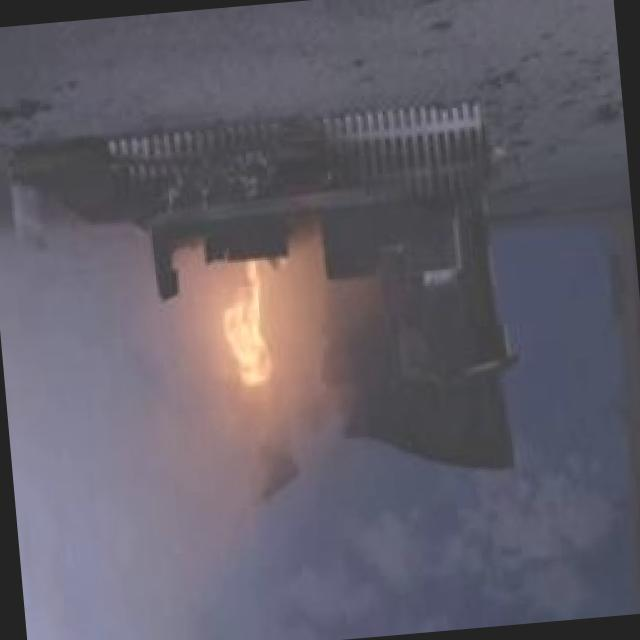fire: (194, 256, 307, 422)
smoke: (11, 389, 351, 640)
